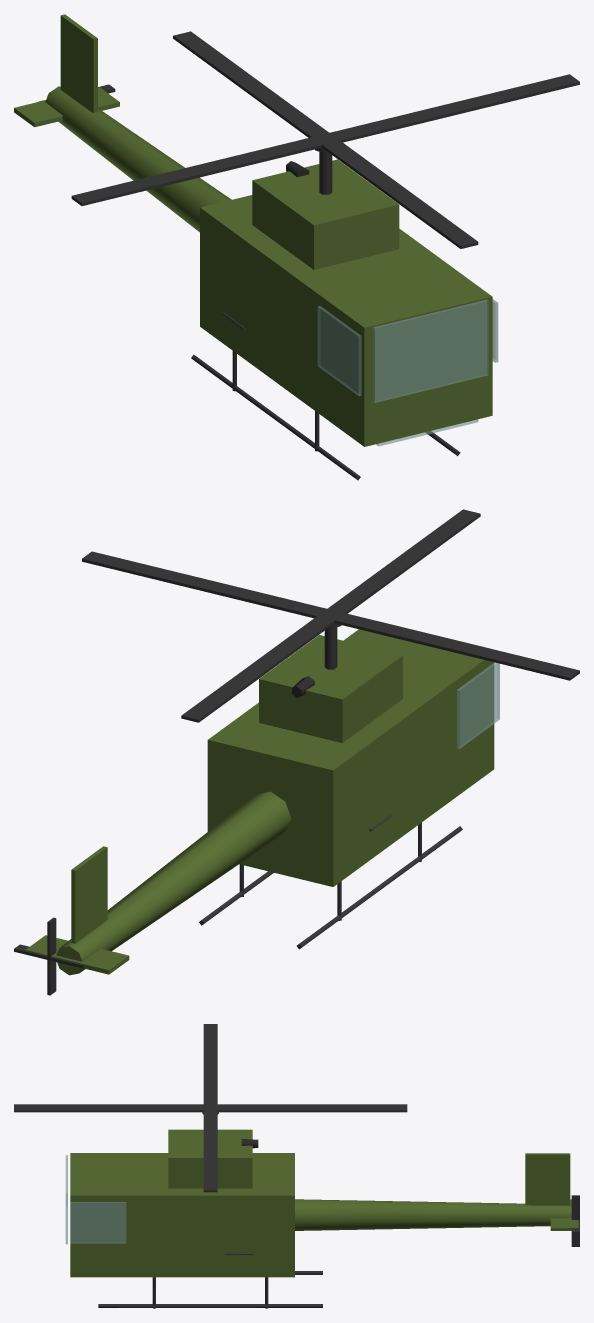
File: uh1-huey.glb
3 views of the same model, one above another, from view 1: azimuth 30°, elevation 25°; view 2: azimuth 150°, elevation 25°; view 3: azimuth 270°, elevation 25° (orthographic). The views are drawn at different scales.
Visible parts, largest first — view 1: Mesh_MainBody, Mesh_EngineCowling, Mesh_Windshield, Mesh_MainBlade2, Mesh_TailBoom, Mesh_MainBlade1, Mesh_VerticalFin, Mesh_SideGlassL, Mesh_HorizontalStab, Mesh_SkidLeft; view 2: Mesh_MainBody, Mesh_EngineCowling, Mesh_TailBoom, Mesh_MainBlade2, Mesh_MainBlade1, Mesh_VerticalFin, Mesh_SideGlassL, Mesh_HorizontalStab, Mesh_SkidLeft, Mesh_TailBlade1; view 3: Mesh_MainBody, Mesh_TailBoom, Mesh_EngineCowling, Mesh_MainBlade1, Mesh_MainBlade2, Mesh_VerticalFin, Mesh_SideGlassR, Mesh_SkidRight.
Boxes of the visible parts, x1,y1,x2,y2 form: Mesh_MainBody: (200, 195, 492, 446); Mesh_EngineCowling: (252, 159, 399, 269); Mesh_Windshield: (373, 299, 488, 402); Mesh_MainBlade2: (71, 74, 579, 205); Mesh_TailBoom: (45, 86, 231, 232); Mesh_MainBlade1: (173, 31, 478, 248); Mesh_VerticalFin: (60, 14, 97, 113); Mesh_SideGlassL: (317, 306, 361, 395); Mesh_HorizontalStab: (14, 87, 119, 127); Mesh_SkidLeft: (191, 354, 360, 480); Mesh_MainBody: (207, 629, 494, 886); Mesh_EngineCowling: (259, 635, 402, 742); Mesh_TailBoom: (56, 791, 291, 975); Mesh_MainBlade2: (82, 551, 579, 680); Mesh_MainBlade1: (181, 509, 480, 722); Mesh_VerticalFin: (71, 846, 107, 943); Mesh_SideGlassL: (457, 662, 499, 748); Mesh_HorizontalStab: (25, 935, 129, 974); Mesh_SkidLeft: (297, 826, 462, 949); Mesh_TailBlade1: (47, 917, 56, 995); Mesh_MainBody: (70, 1153, 294, 1277); Mesh_TailBoom: (295, 1199, 571, 1230); Mesh_EngineCowling: (168, 1129, 252, 1188); Mesh_MainBlade1: (14, 1104, 407, 1112); Mesh_MainBlade2: (203, 1024, 217, 1192); Mesh_VerticalFin: (525, 1153, 570, 1205); Mesh_SideGlassR: (70, 1202, 126, 1243); Mesh_SkidRight: (98, 1304, 322, 1307).
Bounding box in the file's own units: 7 × 3.62 × 10.08.
